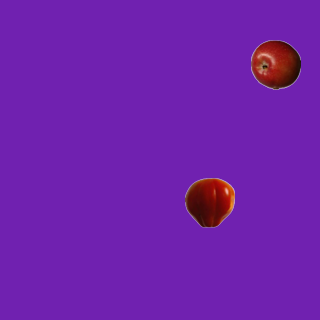Apple Braeburn: (250, 39, 300, 89)
Tomato 1: (184, 177, 234, 227)
